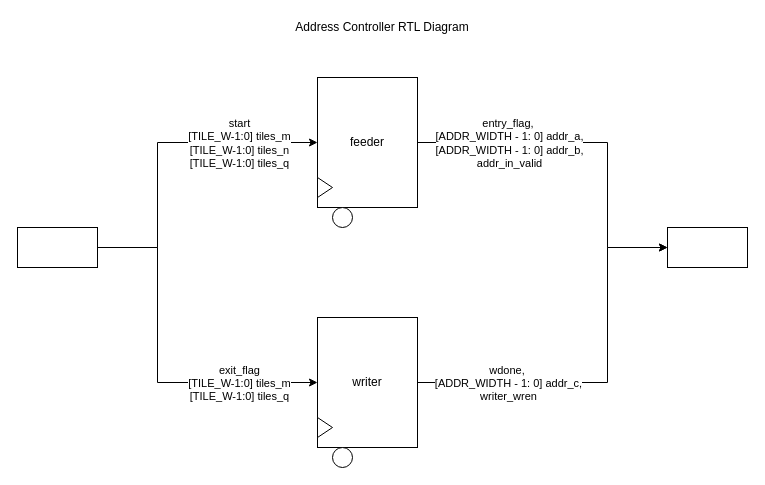
The diagram is 765 pixels wide and 485 high, and some of its shapes have lost their labels. The centre of each missing label's shape, as x and y in pixels:
inputs: [57,247]
outputs: [707,247]
